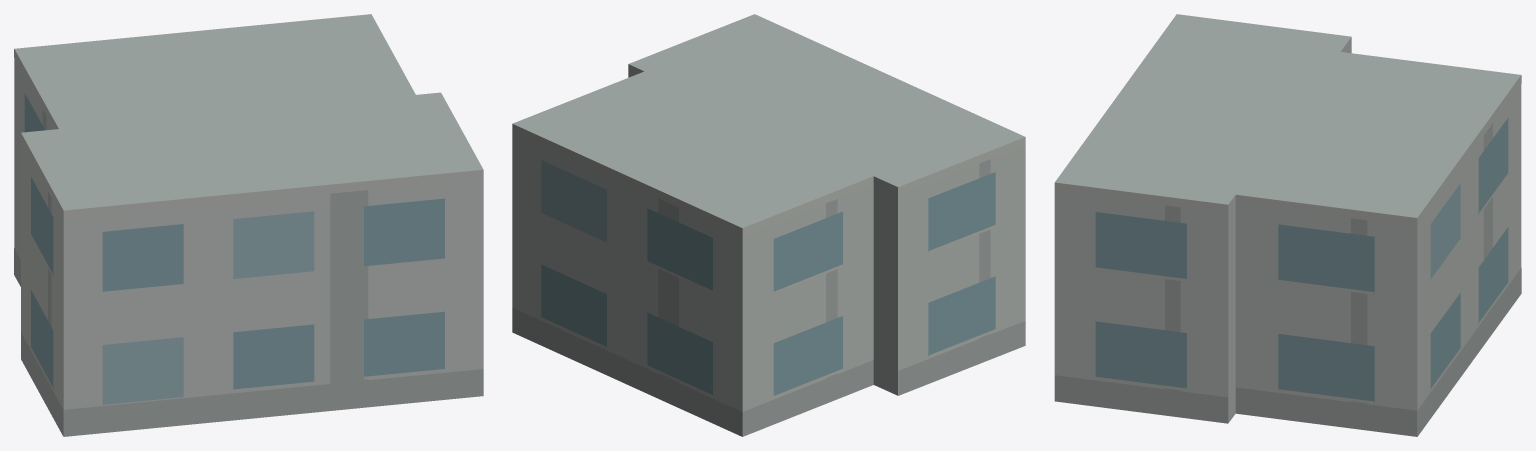
Rendered from residential-ba494ba1-6ea4-4fbf-bc0c-2df12e73ef19.glb.
3 views of the same model, side by side, from view 1: azimuth 30°, elevation 25°; view 2: azimuth 150°, elevation 25°; view 3: azimuth 270°, elevation 25° (orthographic). The views are drawn at different scales.
Parts seen in each view (by area): view 1: residential-ba494ba1-6ea4-4fbf-bc0c-2df12e73ef19.tmp; view 2: residential-ba494ba1-6ea4-4fbf-bc0c-2df12e73ef19.tmp; view 3: residential-ba494ba1-6ea4-4fbf-bc0c-2df12e73ef19.tmp.
Boxes of the visible parts, box(x1,y1,x2,y2) form: residential-ba494ba1-6ea4-4fbf-bc0c-2df12e73ef19.tmp: box(14, 14, 483, 436); residential-ba494ba1-6ea4-4fbf-bc0c-2df12e73ef19.tmp: box(512, 14, 1025, 436); residential-ba494ba1-6ea4-4fbf-bc0c-2df12e73ef19.tmp: box(1054, 14, 1521, 436).
Bounding box in the file's own units: 12.2 × 6.1 × 11.8.
